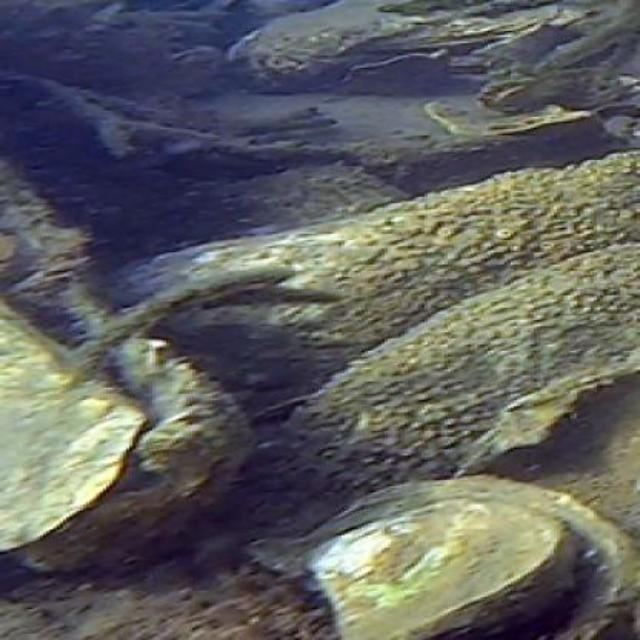Oyster-Closed: (102, 152, 640, 433), (273, 243, 640, 491), (307, 496, 582, 640), (0, 298, 133, 547)
